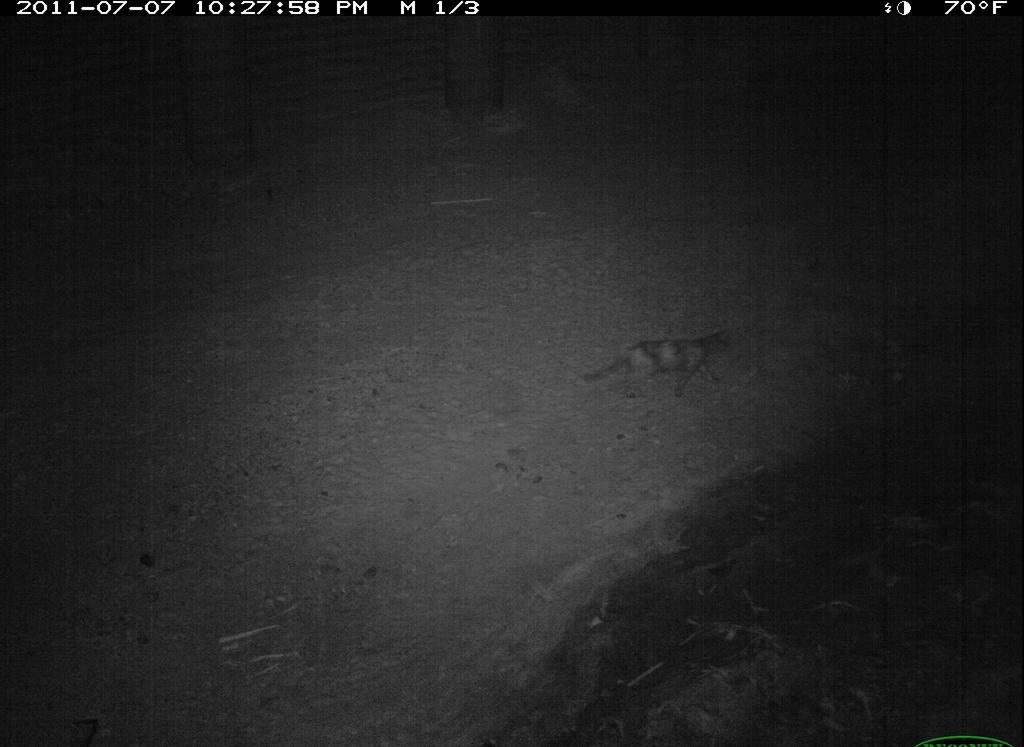cat: (577, 321, 744, 408)
